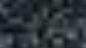four: (23, 18, 28, 27), (41, 19, 46, 28)
seven: (17, 18, 22, 26)
three: (53, 20, 58, 28)
two: (29, 19, 34, 27), (35, 19, 40, 27)
zero: (59, 20, 64, 29), (47, 20, 52, 28)
